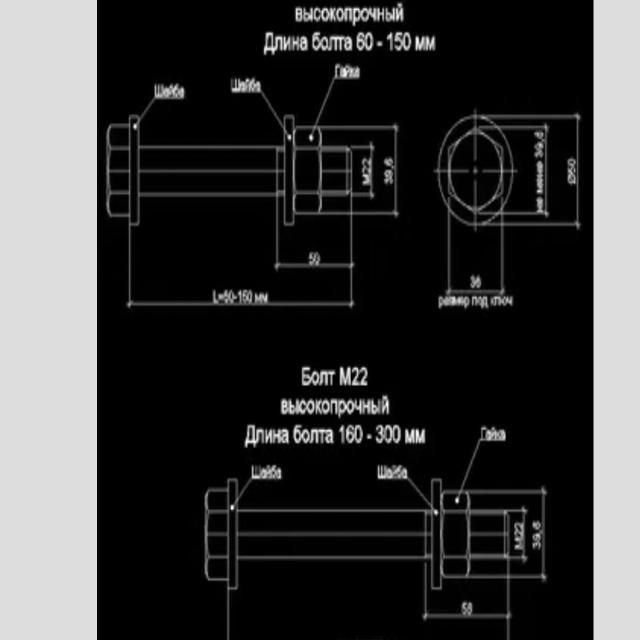marking_line: (127, 225, 356, 307), (514, 112, 584, 230), (351, 122, 400, 217), (445, 226, 506, 295), (511, 483, 549, 581), (274, 228, 355, 273), (514, 122, 551, 216), (422, 591, 516, 625), (352, 142, 375, 199), (510, 506, 528, 563)
numeric: (402, 31, 412, 51), (359, 367, 369, 386), (365, 31, 374, 51), (385, 423, 393, 445), (392, 424, 401, 443), (386, 31, 394, 52), (355, 423, 362, 446), (338, 424, 346, 444), (357, 32, 365, 51), (346, 425, 354, 444), (376, 424, 383, 445), (352, 366, 359, 386), (395, 32, 402, 51), (567, 173, 577, 185), (362, 156, 371, 168), (461, 599, 467, 617), (383, 156, 393, 166), (566, 156, 576, 166), (534, 141, 545, 150), (514, 520, 523, 531), (475, 274, 482, 288), (362, 165, 371, 175), (469, 273, 475, 288), (534, 131, 544, 140), (314, 251, 320, 266), (467, 601, 473, 616), (383, 177, 394, 185), (566, 166, 576, 174), (533, 520, 541, 530), (308, 251, 313, 266), (384, 169, 393, 177), (535, 150, 544, 158), (229, 289, 234, 303), (243, 289, 248, 303), (223, 290, 228, 303), (514, 529, 522, 537), (532, 534, 541, 541), (248, 290, 252, 305), (239, 288, 242, 303)
